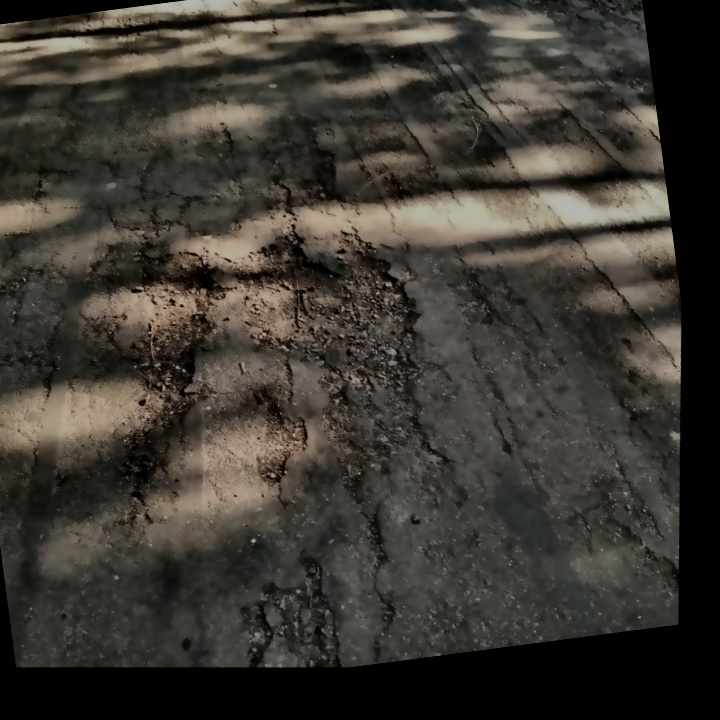pothole: (204, 203, 442, 412), (109, 237, 236, 423)
